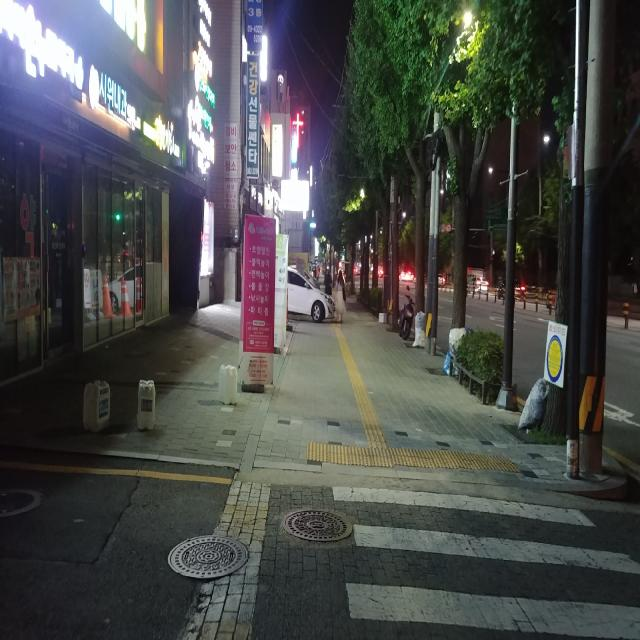횡단보도: (333, 485, 640, 640)
